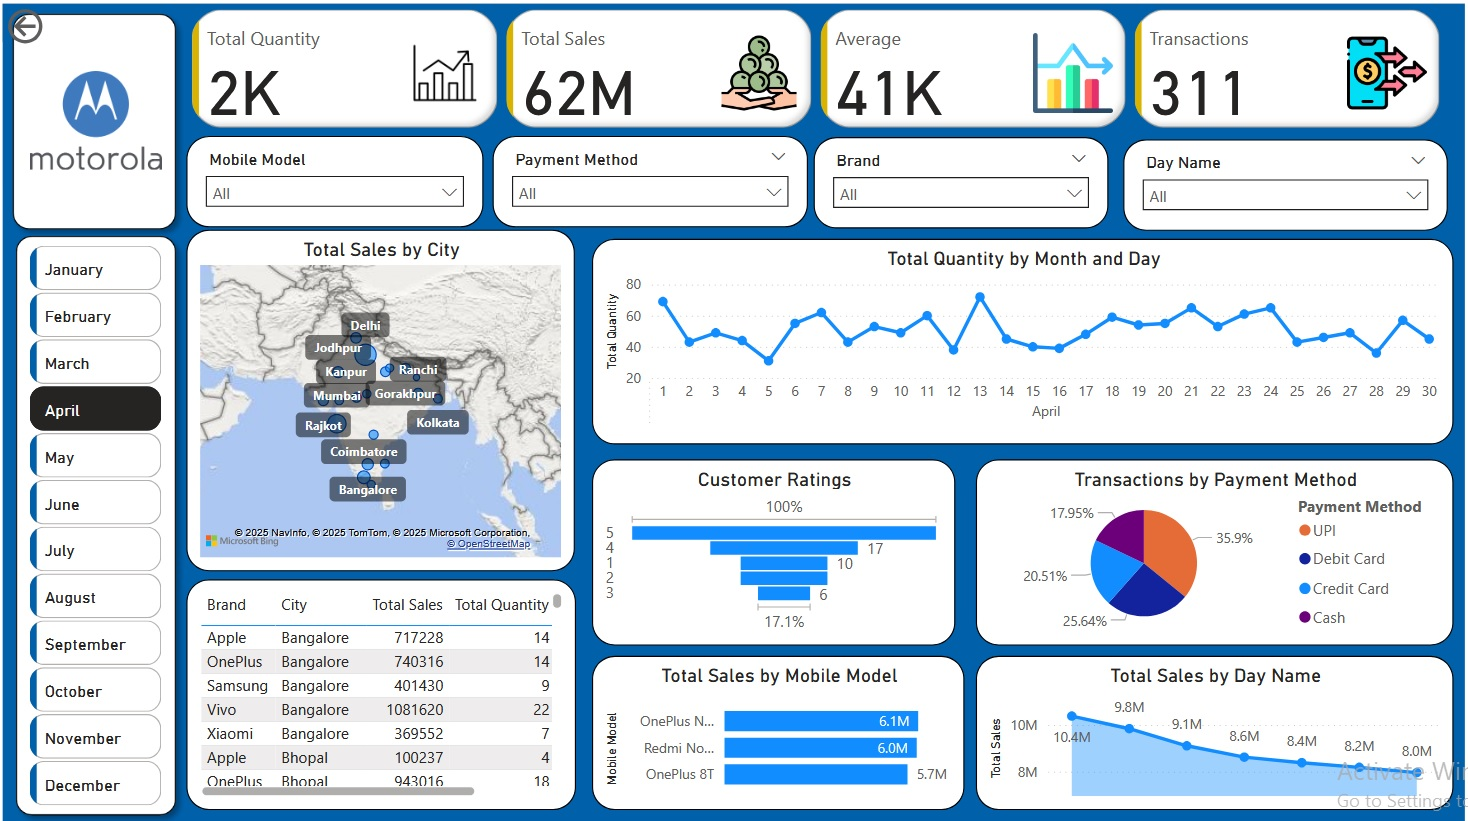

This screenshot's page, from the dashboard's own definition file:
{"tool":"powerbi","page":{"name":"Page 1","canvas":[1280,720],"ordinal":0},"visuals":[{"type":"shape","box":[0,0,161.1,206.7],"z":0},{"type":"image","box":[18.5,21.4,126.9,162.5],"z":1000},{"type":"shape","box":[2.9,193.9,158.2,526],"z":2000},{"type":"advancedSlicerVisual","fields":{"Values":["Sales Data.Date.Variation.Date Hierarchy.Month"]},"box":[18.5,206.7,125.4,500.3],"z":3000},{"type":"cardVisual","fields":{"Data":["Sales_Data.Total Quantity","Sales_Data.Total Sales","Sales_Data.Average","Sales_Data.Transactions"]},"box":[161.4,0,1103.2,113.7],"z":4000},{"type":"map","fields":{"Category":["Sales_Data.City"],"Size":["Sales_Data.Total Sales"]},"box":[161.4,197.9,339.6,298.9],"z":5000},{"type":"lineChart","fields":{"Y":["Sales_Data.Total Quantity"],"Category":["Sales_Data.Date.Variation.Date Hierarchy.Month","Sales_Data.Date.Variation.Date Hierarchy.Day"]},"box":[516.5,206.3,753.7,179.6],"z":6000},{"type":"clusteredBarChart","fields":{"Category":["Sales_Data.Mobile Model"],"Y":["Sales_Data.Total Sales"]},"box":[516.5,571.2,325.6,134.7],"z":7000},{"type":"pieChart","fields":{"Y":["Sales_Data.Transactions"],"Category":["Sales_Data.Payment Method"]},"box":[852.4,399.1,417.6,162.5],"z":8000},{"type":"funnel","title":"Customer Ratings","fields":{"Category":["Sales_Data.Customer Ratings"],"Y":["CountNonNull(Sales_Data.Customer Ratings)"]},"box":[516,399.1,317.9,162.5],"z":9000},{"type":"areaChart","fields":{"Category":["Sales_Data.Day Name"],"Y":["Sales_Data.Total Sales"]},"box":[851.9,571.2,418.2,134.7],"z":10000},{"type":"slicer","fields":{"Values":["Sales_Data.Mobile Model"]},"box":[161.4,115.8,259.6,80],"z":11000},{"type":"actionButton","box":[0,0,100,40],"z":12000},{"type":"slicer","fields":{"Values":["Sales_Data.Payment Method"]},"box":[429.5,115.8,275.1,80],"z":13000},{"type":"slicer","fields":{"Values":["Sales_Data.Brand"]},"box":[710.2,117.2,258.2,80],"z":14000},{"type":"slicer","fields":{"Values":["Sales_Data.Day Name"]},"box":[981.1,118.6,283.5,80],"z":15000},{"type":"tableEx","fields":{"Values":["Sales_Data.Brand","Sales_Data.City","Sales_Data.Total Sales","Sales_Data.Total Quantity","Sales_Data.Transactions"]},"box":[161.4,503.9,341.1,202.1],"z":16000}]}

Visuals, with their boxes in screenshot pixels (x1, y1, x2, y2), scaled from the page's 1280x720 canvas onto the 1468x821 screenshot:
shape: crop(0, 0, 185, 236)
image: crop(21, 24, 167, 210)
shape: crop(3, 221, 185, 820)
advancedSlicerVisual - Sales Data.Date.Variation.Date Hierarchy.Month: crop(21, 236, 165, 806)
cardVisual - Sales_Data.Total Quantity x Sales_Data.Total Sales: crop(185, 0, 1450, 130)
map - Sales_Data.City x Sales_Data.Total Sales: crop(185, 226, 575, 566)
lineChart - Sales_Data.Total Quantity x Sales_Data.Date.Variation.Date Hierarchy.Month: crop(592, 235, 1457, 440)
clusteredBarChart - Sales_Data.Mobile Model x Sales_Data.Total Sales: crop(592, 651, 966, 805)
pieChart - Sales_Data.Transactions x Sales_Data.Payment Method: crop(978, 455, 1457, 640)
"Customer Ratings" funnel: crop(592, 455, 956, 640)
areaChart - Sales_Data.Day Name x Sales_Data.Total Sales: crop(977, 651, 1457, 805)
slicer - Sales_Data.Mobile Model: crop(185, 132, 483, 223)
actionButton: crop(0, 0, 115, 46)
slicer - Sales_Data.Payment Method: crop(493, 132, 808, 223)
slicer - Sales_Data.Brand: crop(815, 134, 1111, 225)
slicer - Sales_Data.Day Name: crop(1125, 135, 1450, 226)
tableEx - Sales_Data.Brand x Sales_Data.City: crop(185, 575, 576, 805)
